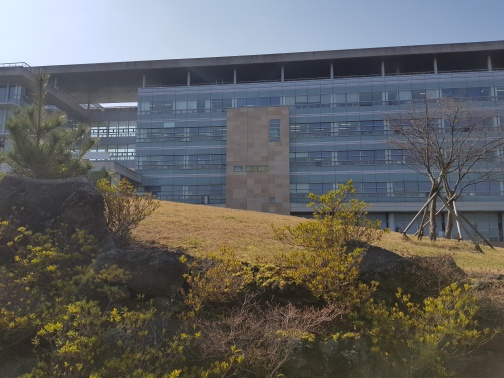Engineering College Building 4: (3, 53, 503, 176), (154, 47, 499, 210), (214, 89, 297, 213)
